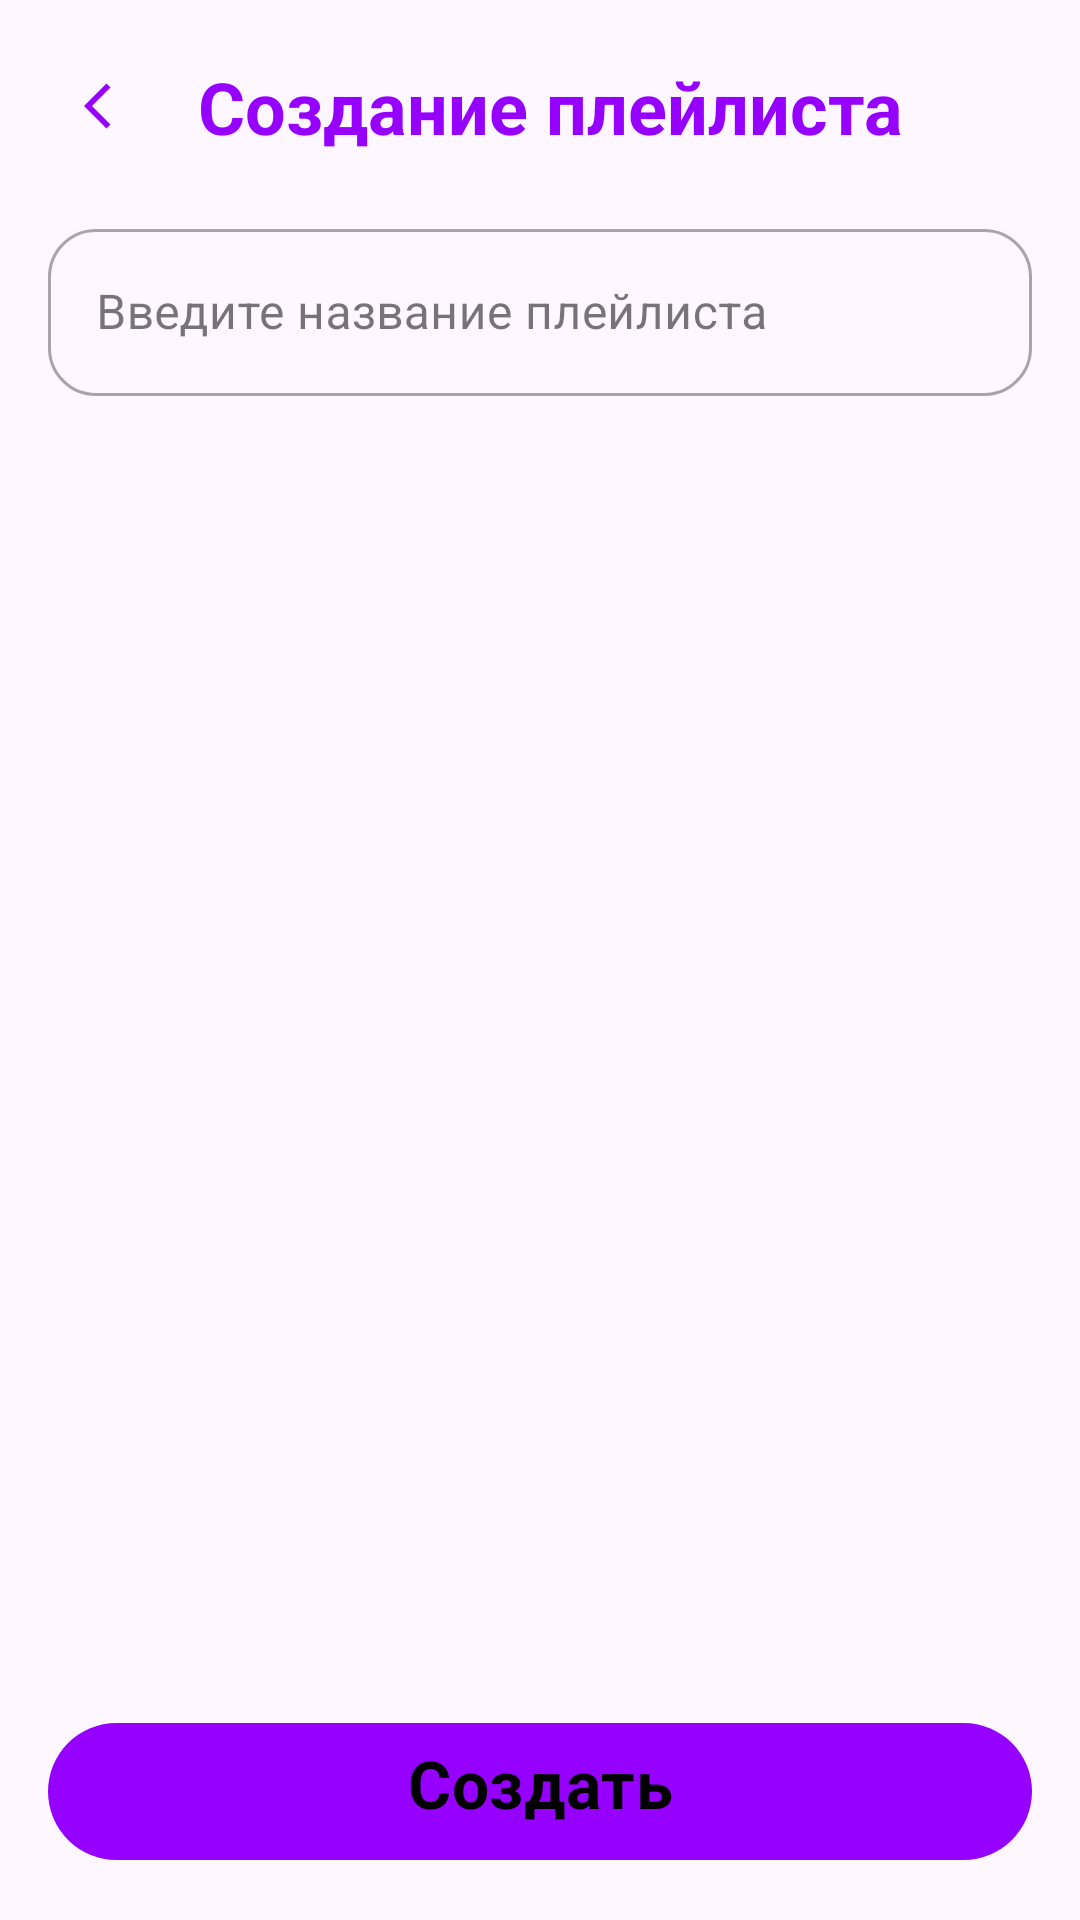

Icons on this 1080 × 1920 Android screen, each with the point to tap as point (x, y):
back arrow: point (97, 106)
